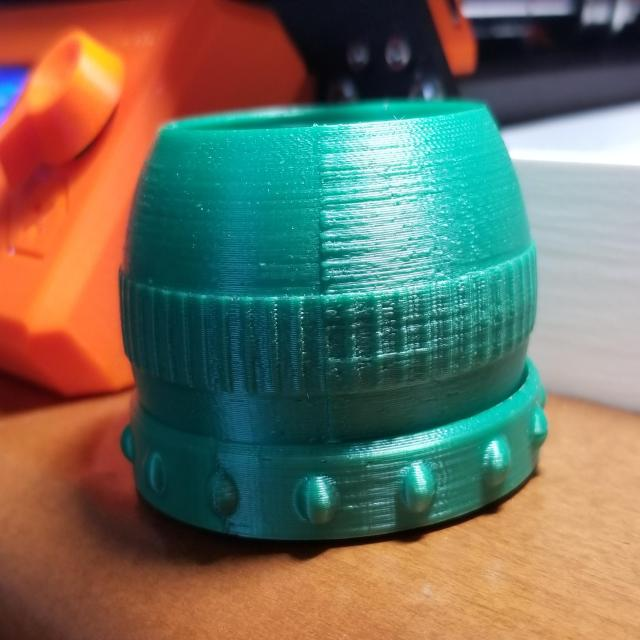blobs: (308, 138, 352, 291)
